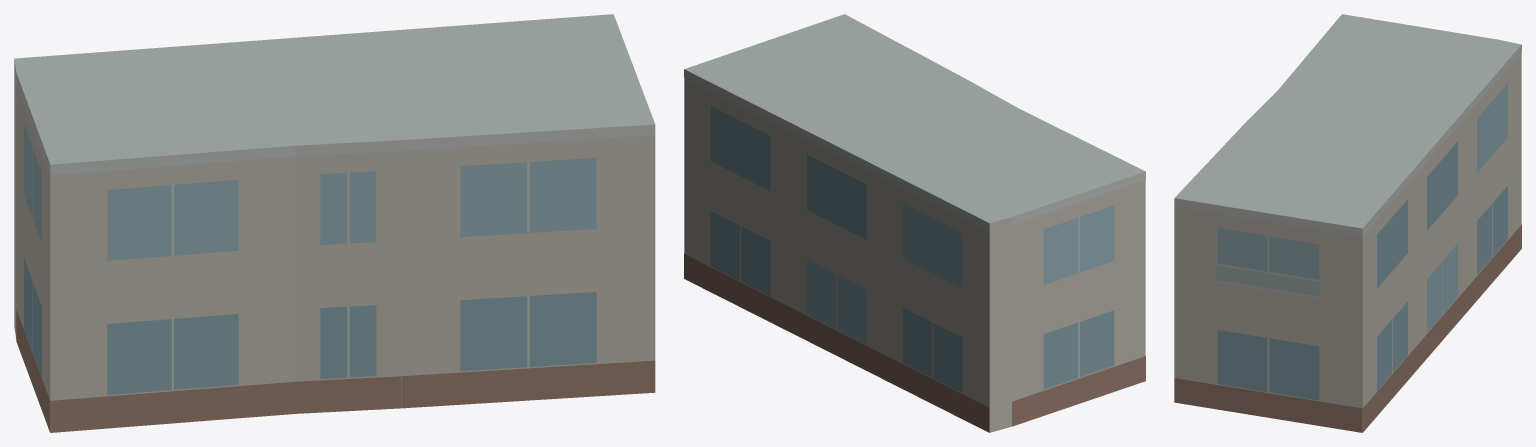
Rendered from survey-upis-32810672.glb.
3 views of the same model, side by side, from view 1: azimuth 30°, elevation 25°; view 2: azimuth 150°, elevation 25°; view 3: azimuth 270°, elevation 25° (orthographic). The views are drawn at different scales.
Parts seen in each view (by area): view 1: survey-upis-32810672.tmp; view 2: survey-upis-32810672.tmp; view 3: survey-upis-32810672.tmp.
Part boxes in pixels (left/top/right/bottom): survey-upis-32810672.tmp: left=14, top=14, right=655, bottom=432; survey-upis-32810672.tmp: left=684, top=14, right=1145, bottom=432; survey-upis-32810672.tmp: left=1174, top=14, right=1521, bottom=432.
Bounding box in the file's own units: 13.74 × 6.1 × 9.41.
